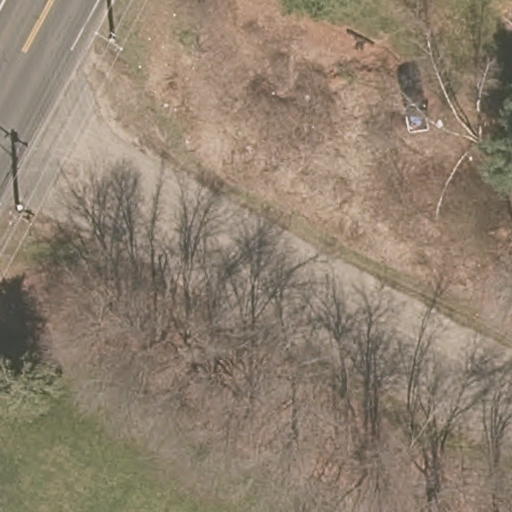DT: (94, 29, 125, 54), (6, 205, 34, 224)
